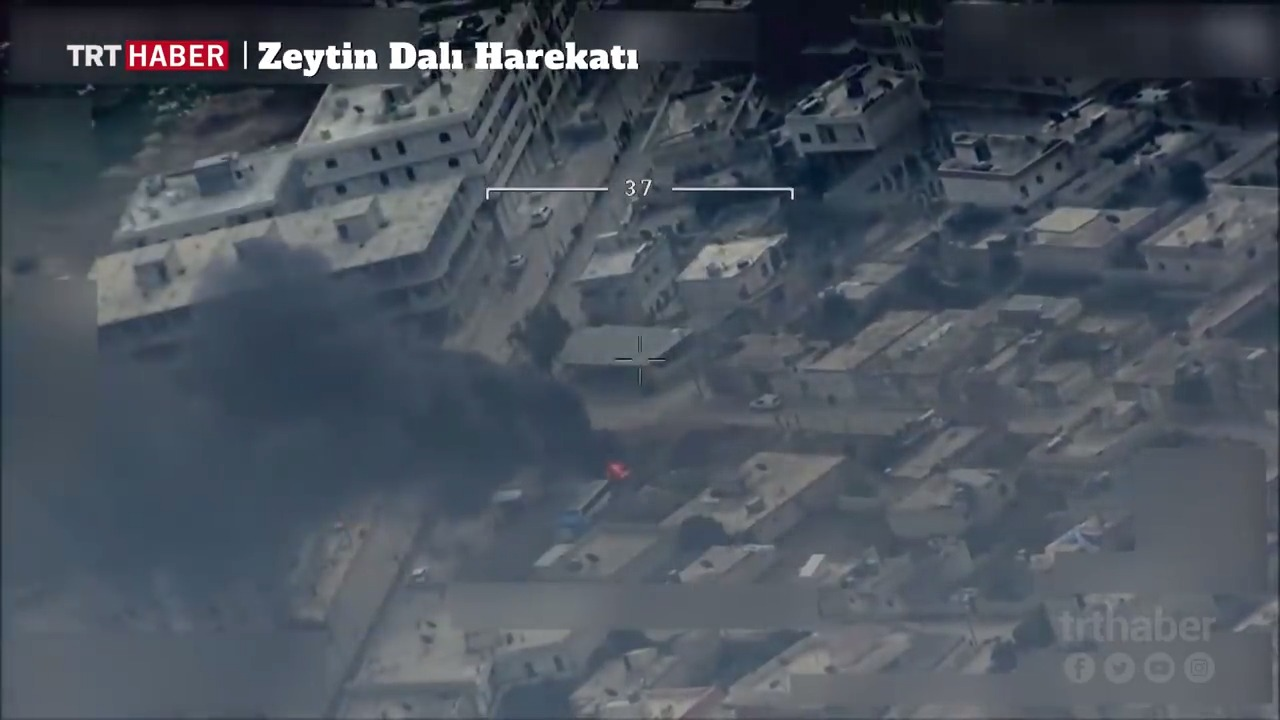arac: (743, 385, 791, 419), (521, 202, 554, 230)
bina: (777, 51, 931, 171)
